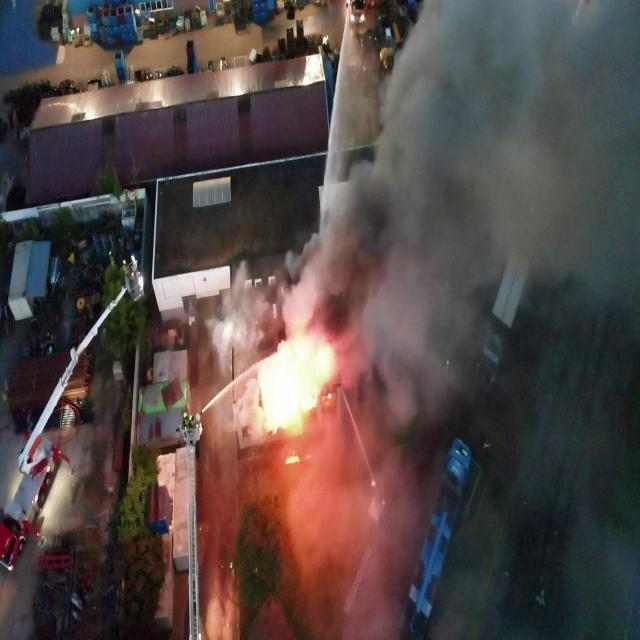Fire: (260, 343, 332, 428)
Smoke: (208, 0, 640, 448)
